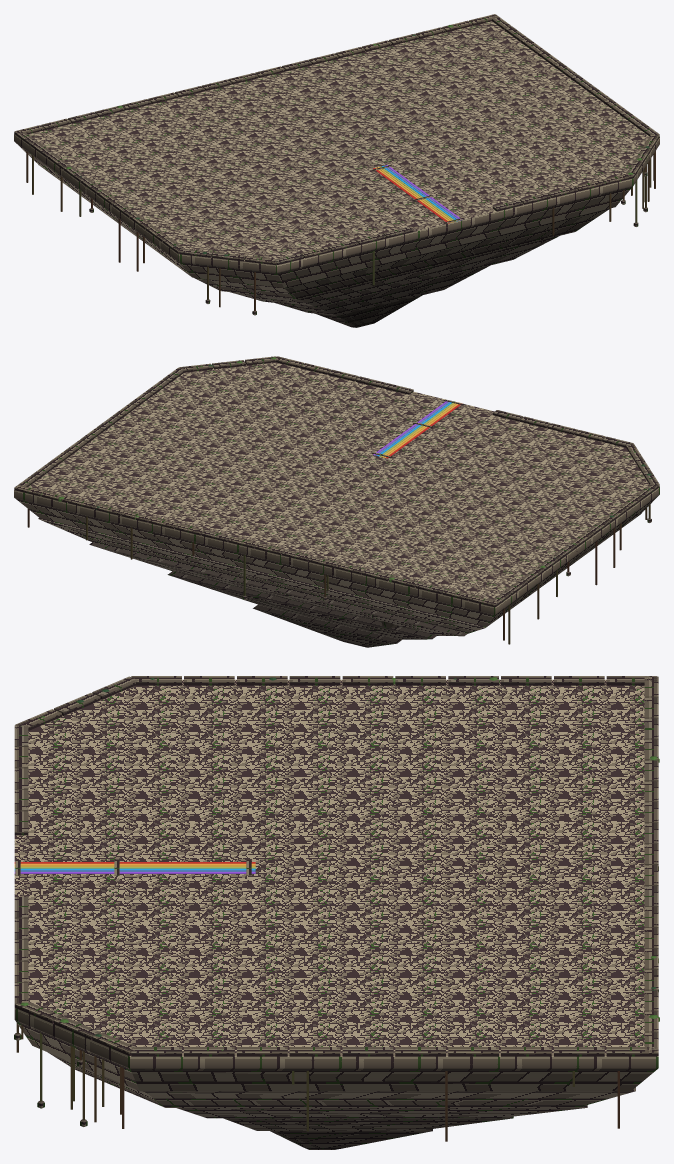
Rendered from bifrost_plaza.glb.
The picture shows the model from 3 angles, top to bottom: view 1: azimuth 30°, elevation 25°; view 2: azimuth 150°, elevation 25°; view 3: azimuth 270°, elevation 25°; orthographic projection. The views are drawn at different scales.
Parts seen in each view (by area): view 1: bifrost_plaza; view 2: bifrost_plaza; view 3: bifrost_plaza.
Part boxes in pixels (left/top/right/bottom): bifrost_plaza: left=14, top=14, right=659, bottom=327; bifrost_plaza: left=14, top=356, right=659, bottom=647; bifrost_plaza: left=14, top=676, right=659, bottom=1149.
Bounding box in the file's own units: 27 × 9.27 × 19.56.
4 materials, 2 textured.
